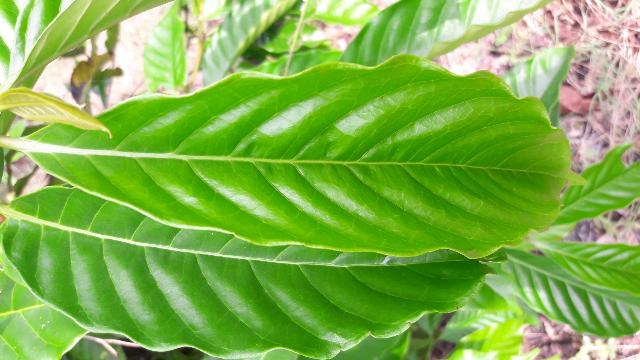healthy: (16, 51, 571, 257)
